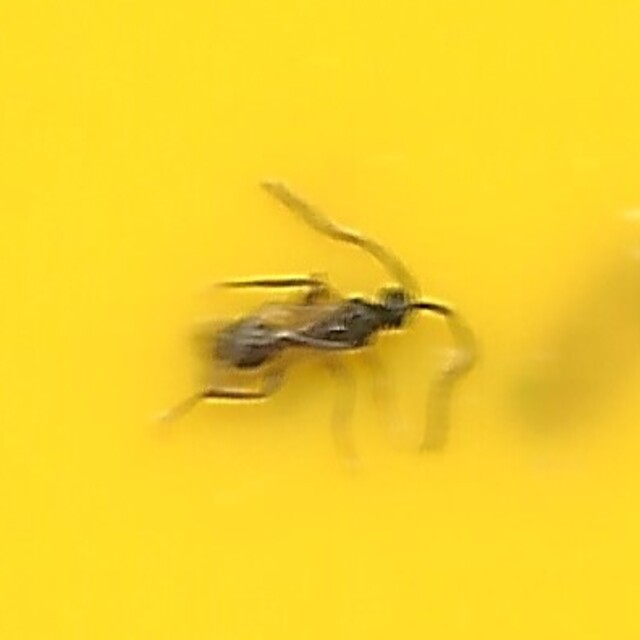Hymenoptera: (162, 184, 478, 456)
